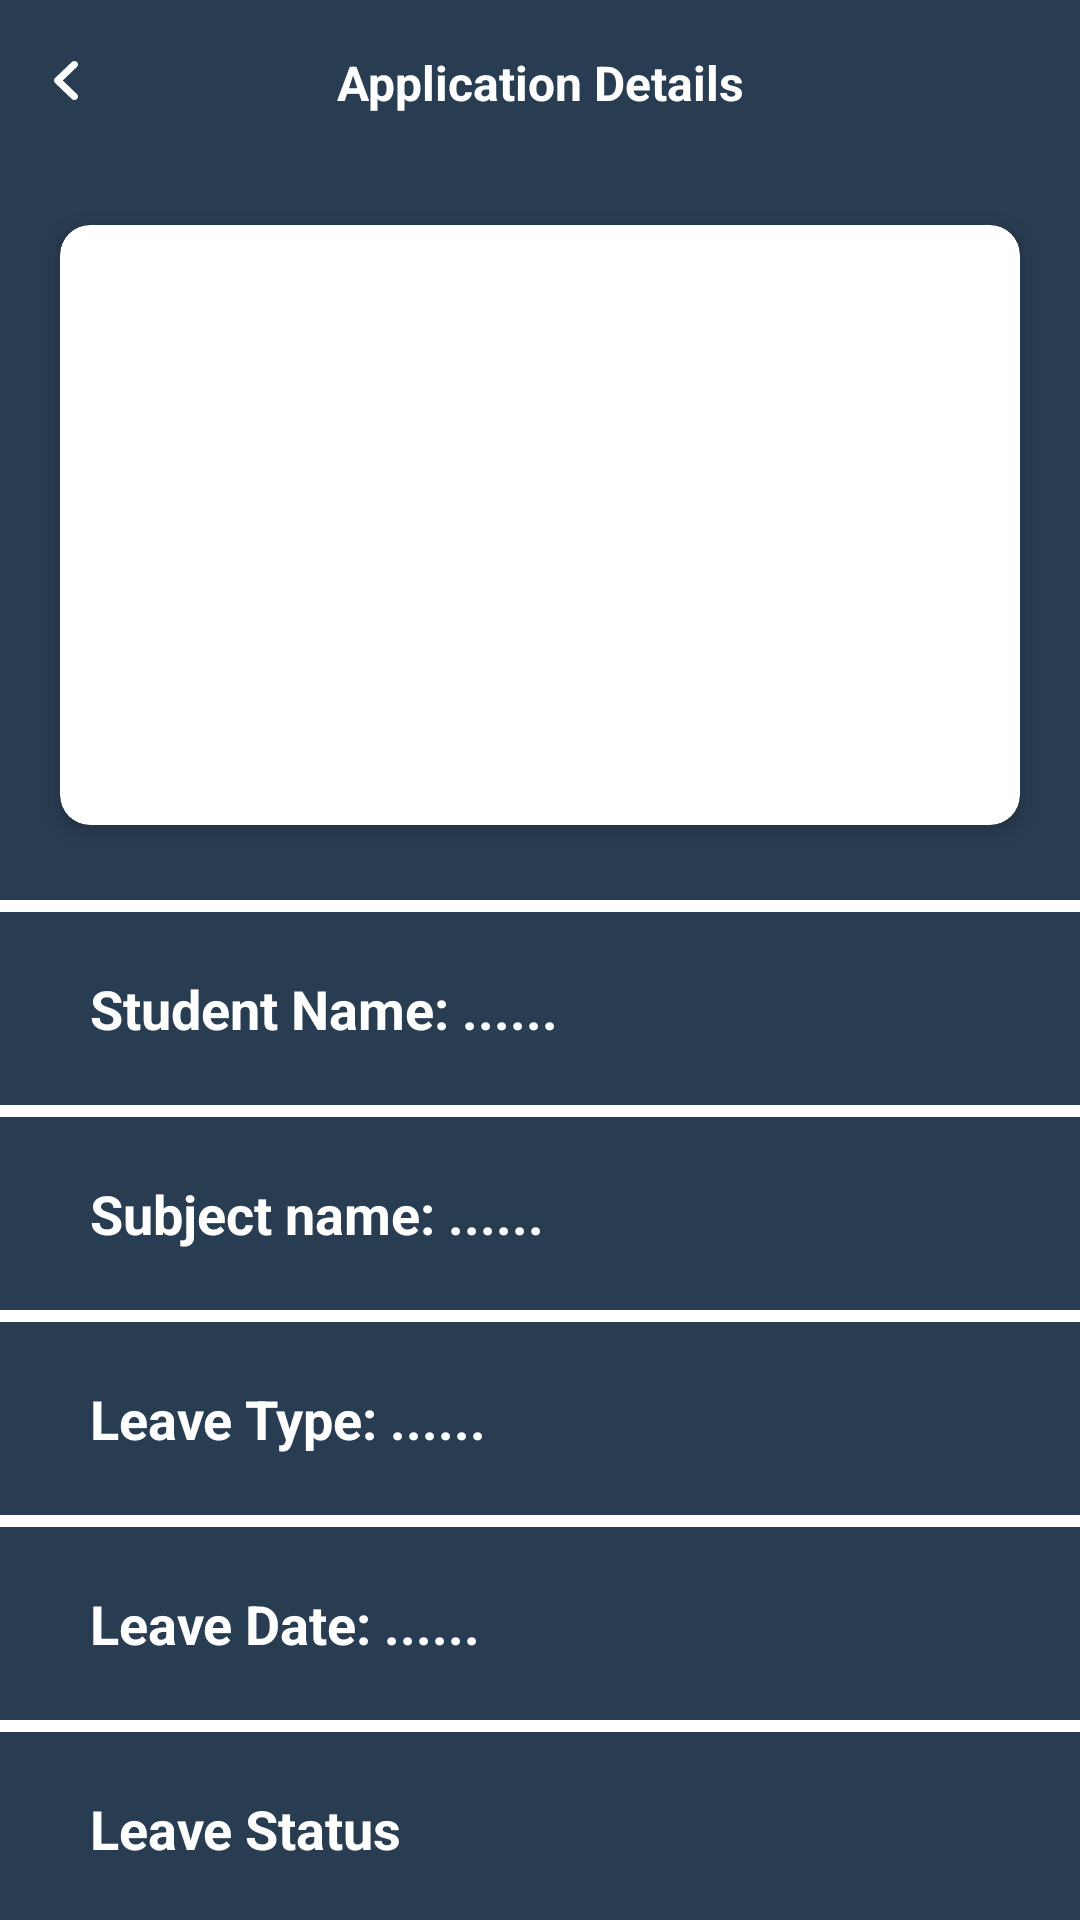

Where to tap for icons on this 1080×1920 app screen, as point (x, y):
back: point (66, 80)
